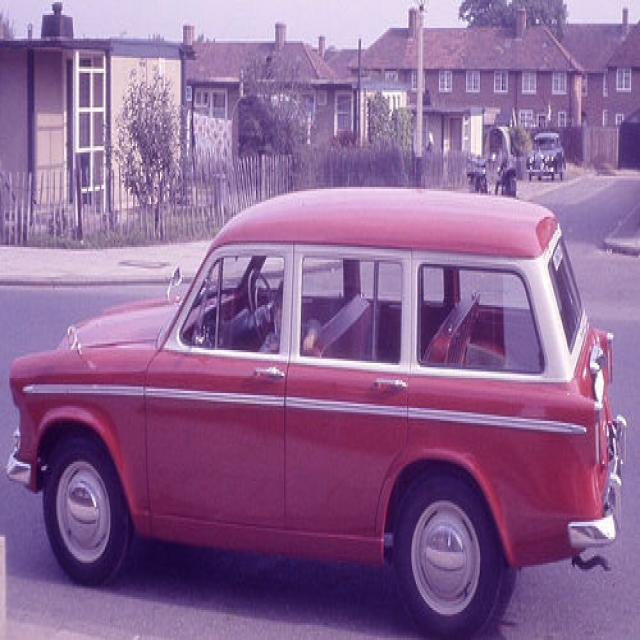Car: (4, 185, 627, 594), (525, 132, 572, 186)
